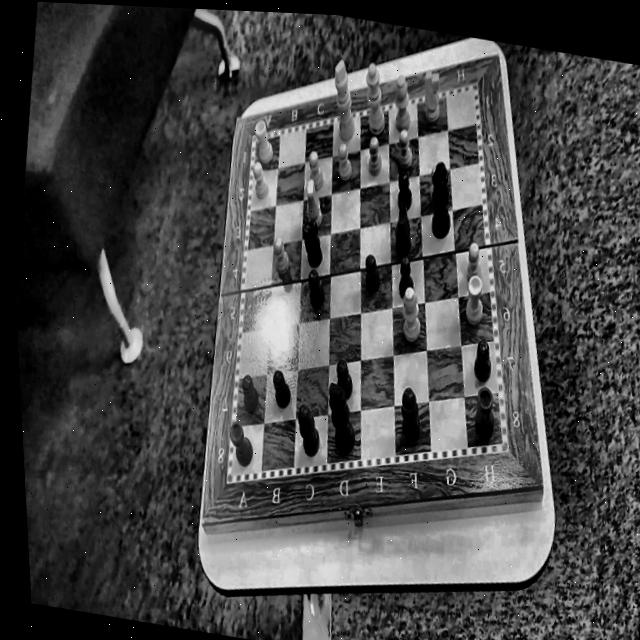chessboard: (231, 89, 502, 477)
